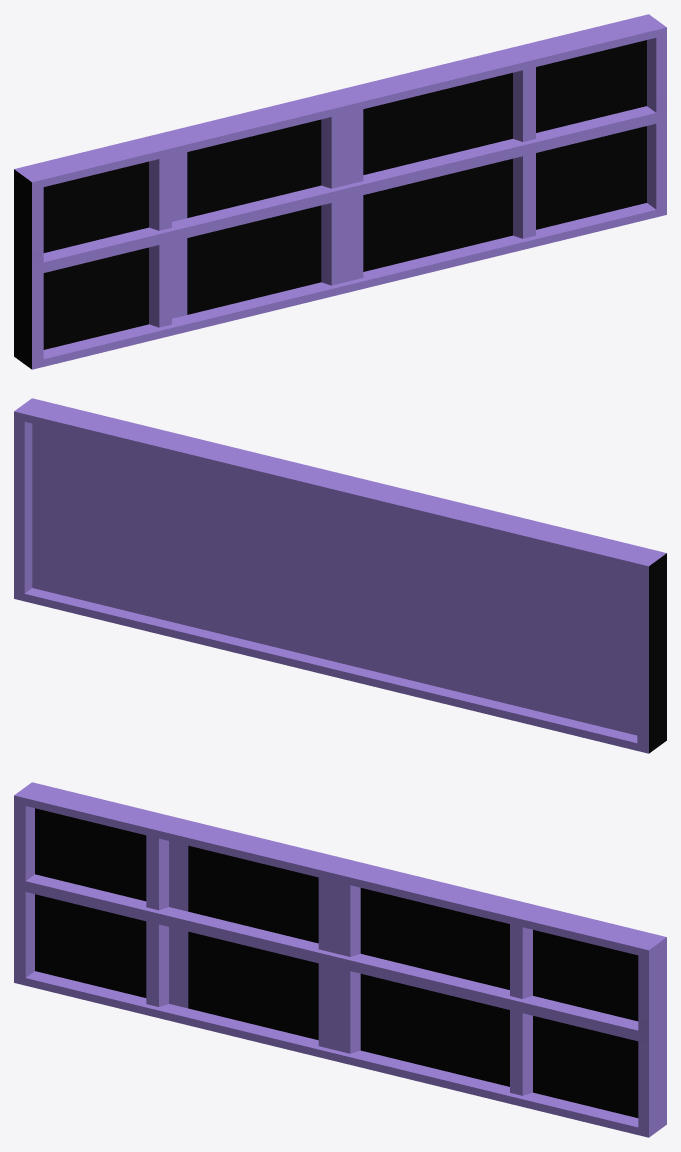
Rendered from tavernbarshelf.fbx.
3 renders of one model, top to bottom at view 1: azimuth 30°, elevation 25°; view 2: azimuth 150°, elevation 25°; view 3: azimuth 330°, elevation 25°, orthographic.
Visible parts, largest first — view 1: LiquorShelves; view 2: LiquorShelves; view 3: LiquorShelves.
Boxes of the visible parts, left/top/right/bottom form: LiquorShelves: left=14, top=14, right=666, bottom=369; LiquorShelves: left=14, top=398, right=666, bottom=753; LiquorShelves: left=14, top=782, right=666, bottom=1137.
Bounding box in the file's own units: 4217 × 1190 × 208.
